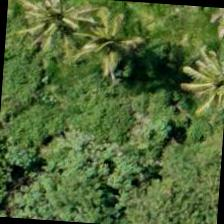Kelapa_Sawit: (63, 1, 158, 96), (8, 0, 104, 71), (174, 43, 223, 137)
